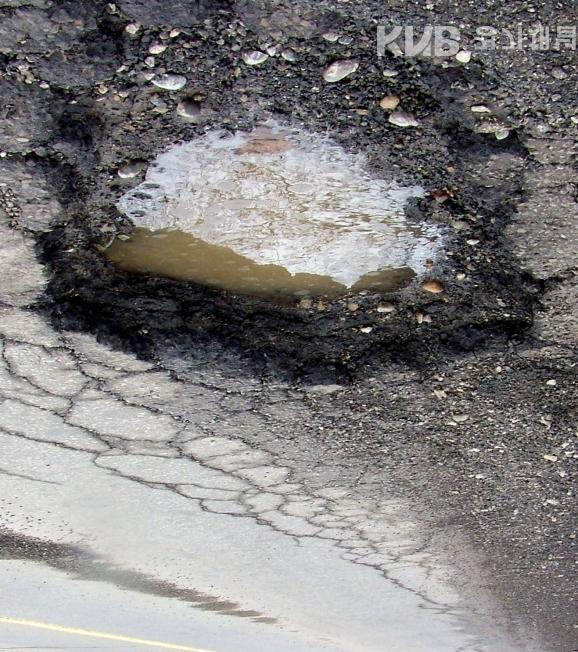pothole: (8, 30, 539, 400)
